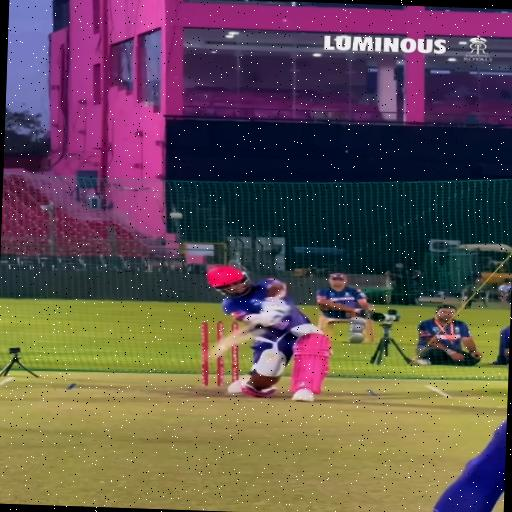Cricket bat: (211, 322, 256, 357)
